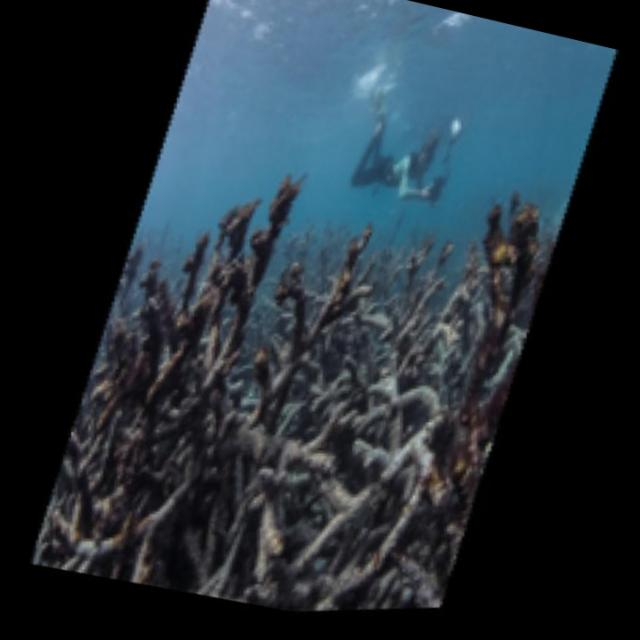Dead Coral: (3, 106, 436, 613), (305, 121, 640, 591)
